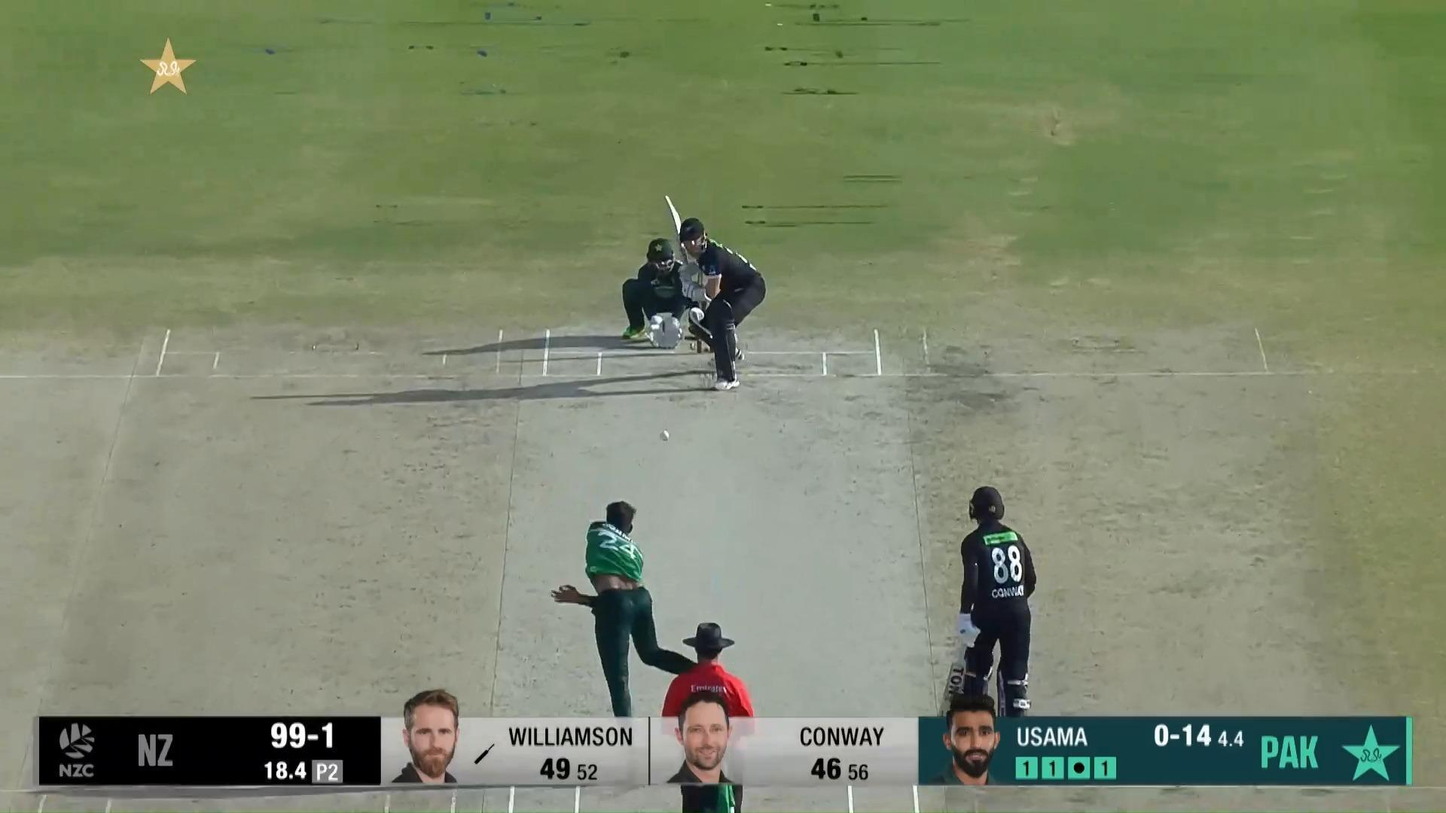BM 1: (663, 193, 767, 392)
BO: (550, 499, 719, 756)
